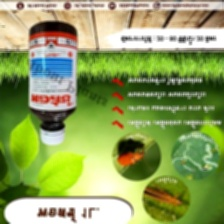insecticide: (24, 18, 81, 147)
